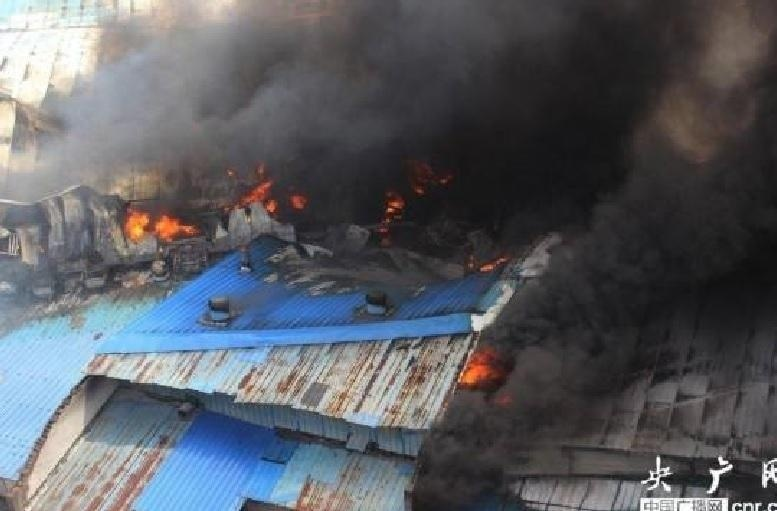fire: (122, 205, 197, 240), (239, 170, 279, 210), (456, 347, 497, 384)
